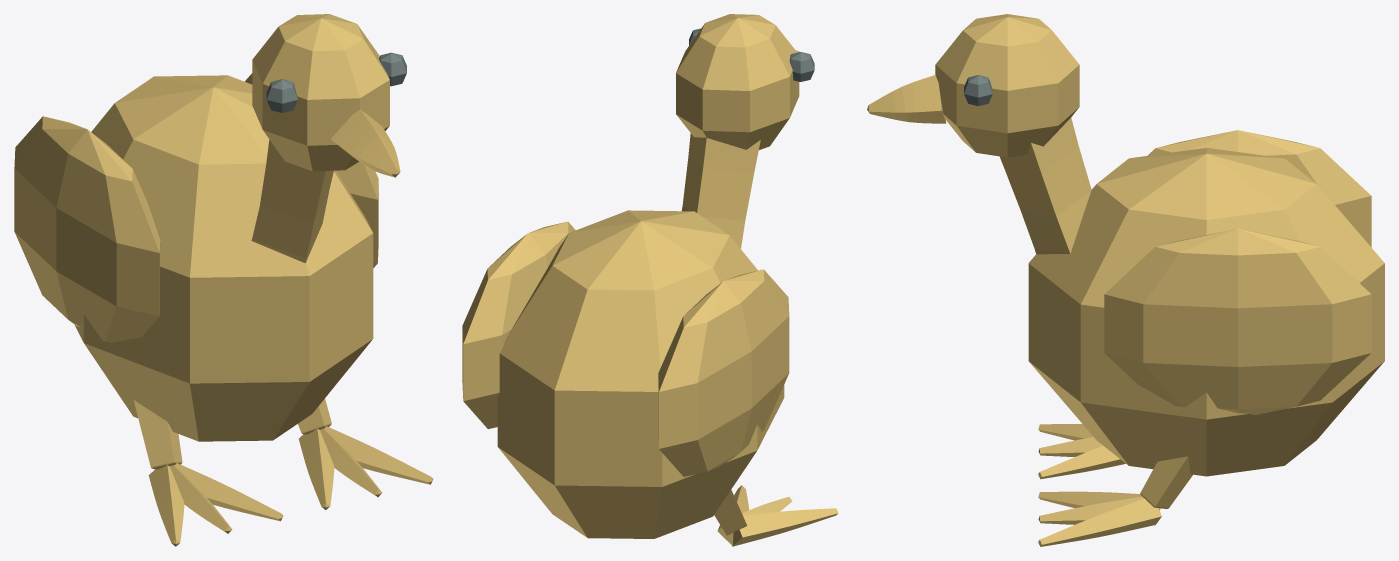
Rendered from chick.glb.
3 renders of one model, left to right at view 1: azimuth 30°, elevation 25°; view 2: azimuth 150°, elevation 25°; view 3: azimuth 270°, elevation 25°, orthographic. The views are drawn at different scales.
Parts seen in each view (by area): view 1: chick; view 2: chick; view 3: chick.
Part boxes in pixels (x1=…): chick: x1=14, y1=14, x2=433, y2=546; chick: x1=462, y1=14, x2=838, y2=546; chick: x1=867, y1=14, x2=1384, y2=546.
Size of the model in its own units: 0.144 by 0.2517 by 0.2488.
